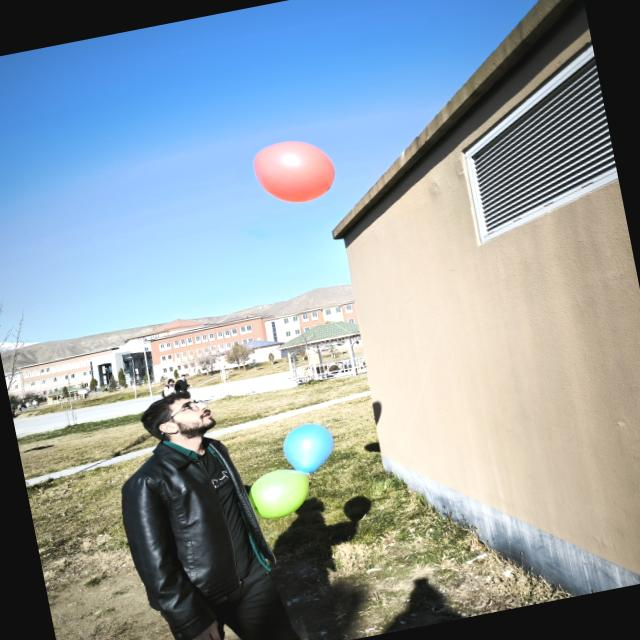balloon: (254, 141, 335, 202), (250, 469, 310, 518), (283, 424, 334, 472)
